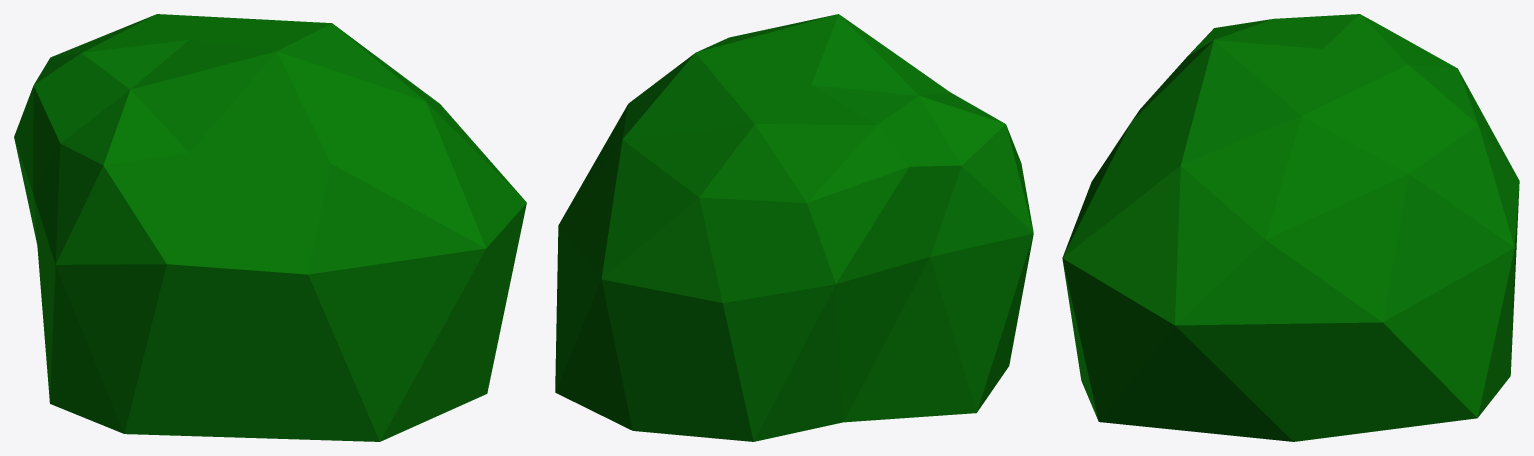
Rendered from Bush.fbx.
The picture shows the model from 3 angles, left to right: view 1: azimuth 30°, elevation 25°; view 2: azimuth 150°, elevation 25°; view 3: azimuth 270°, elevation 25°; orthographic projection. The views are drawn at different scales.
Visible parts, largest first — view 1: Icosphere; view 2: Icosphere; view 3: Icosphere.
Part boxes in pixels (x1,y1,x2,y2): Icosphere: [14, 14, 526, 441]; Icosphere: [555, 14, 1033, 441]; Icosphere: [1062, 14, 1519, 441].
Size of the model in its own units: 137 by 106 by 131.
